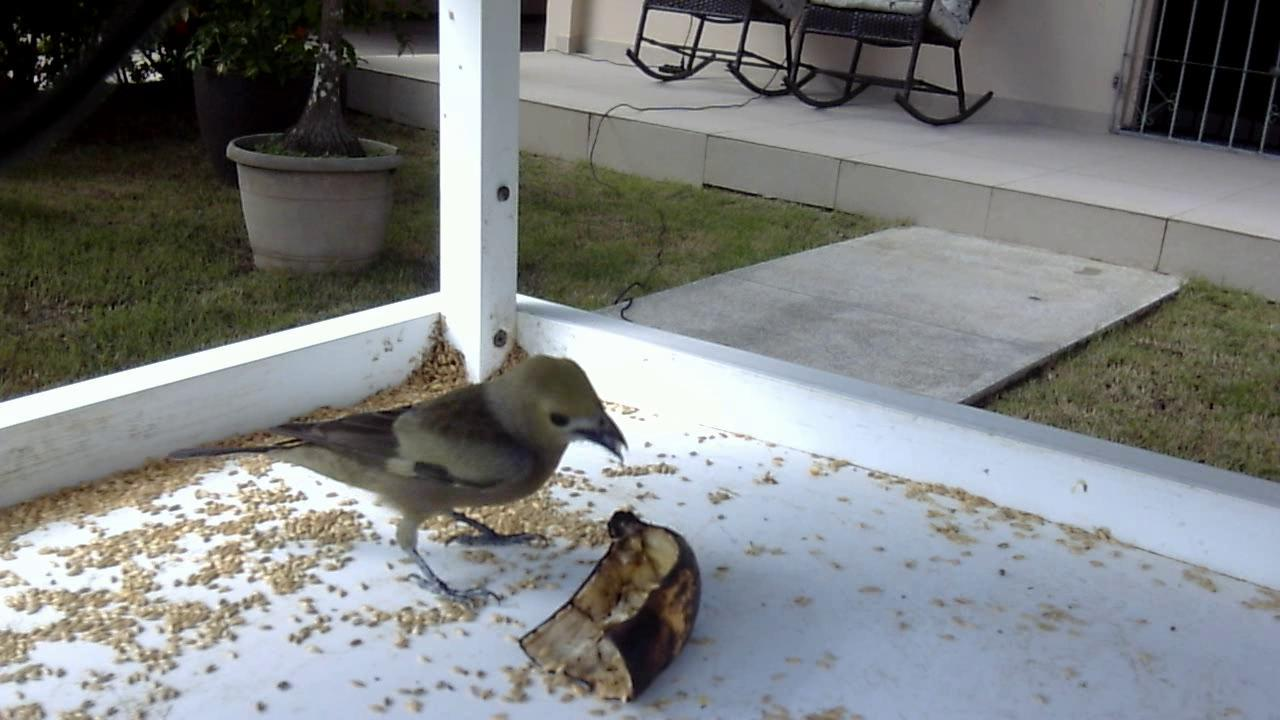sanhaco_do_coqueiro: (167, 348, 635, 628)
